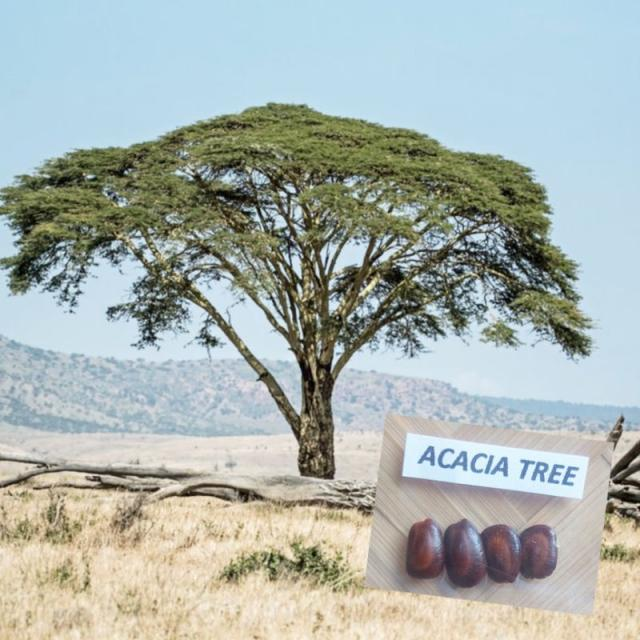Acacia: (7, 83, 591, 411)
